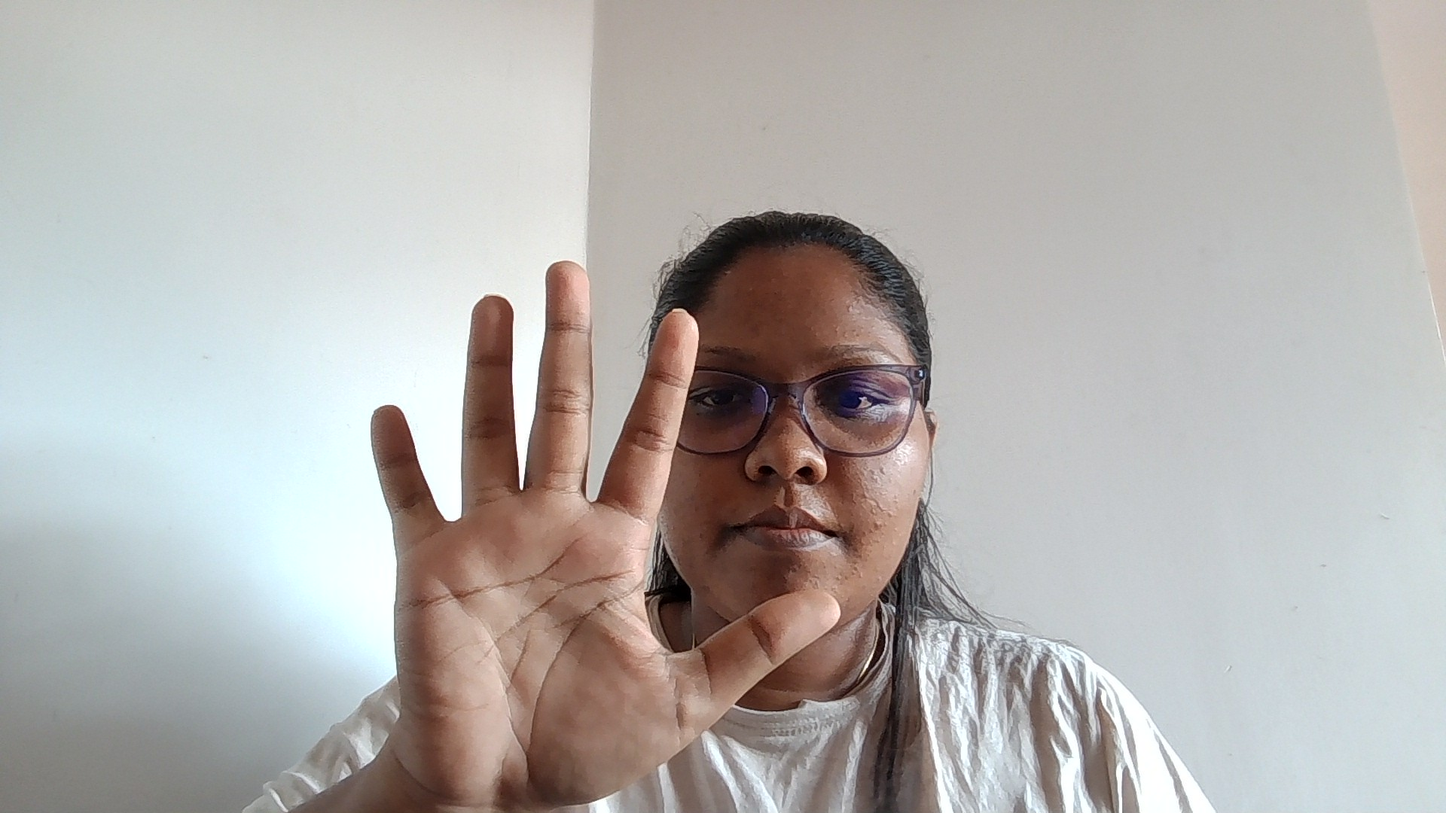Hello: (271, 194, 925, 802)
